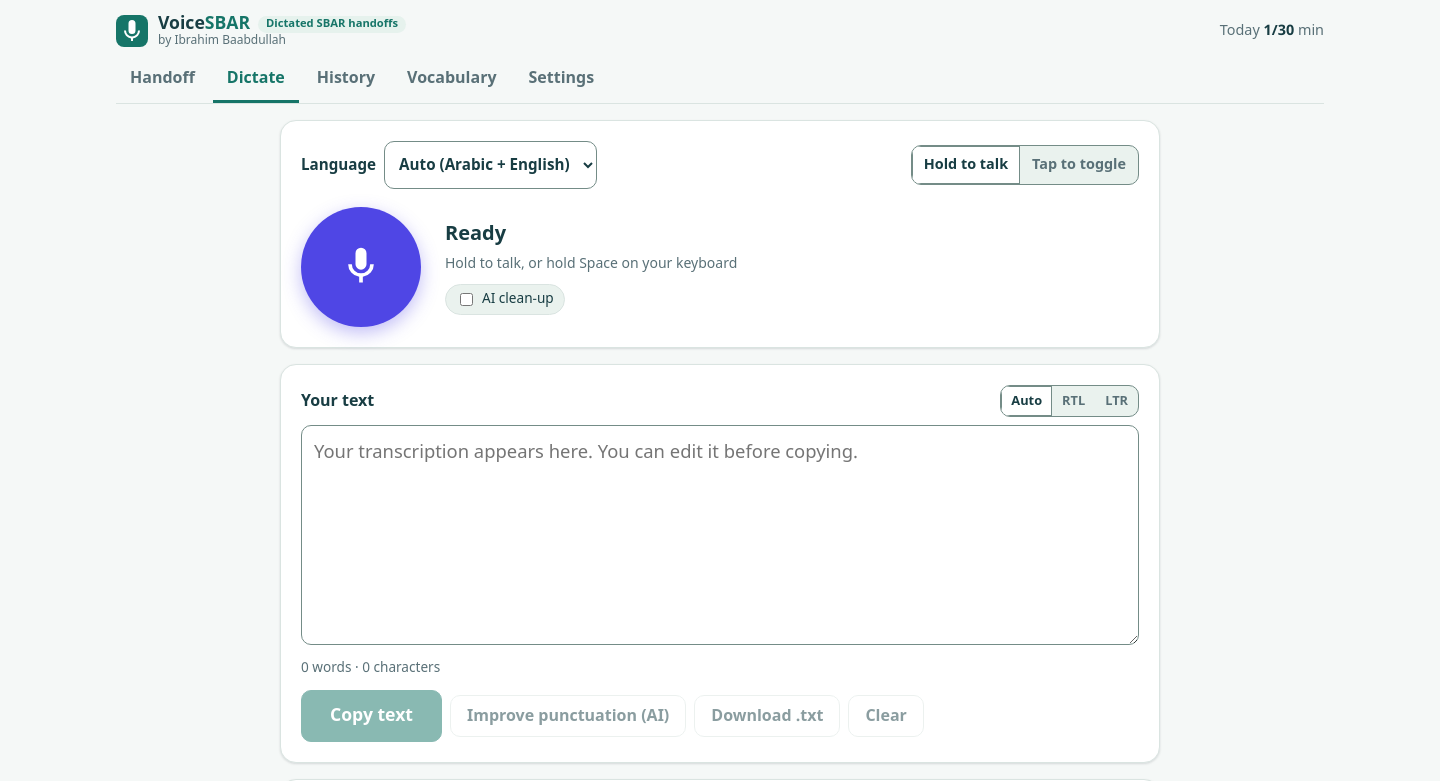
Test case: dictation › shows a clear message when microphone access is blocked
The image size is (1440, 781).
Press the mouse on the button named "Record —" at (361, 267), box [301,207,421,327]
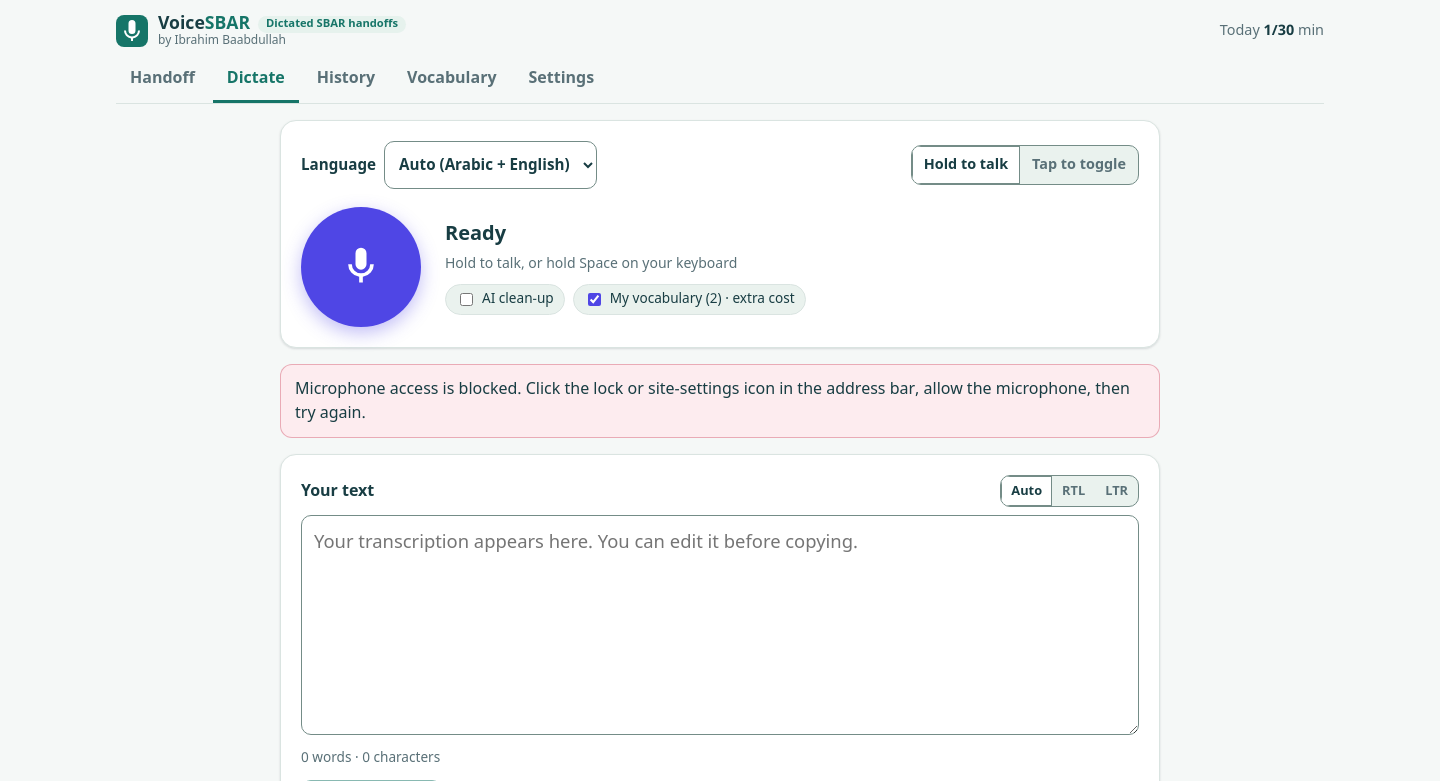
Now the message shows "Microphone access is blocked", box [295,372,1130,430]
